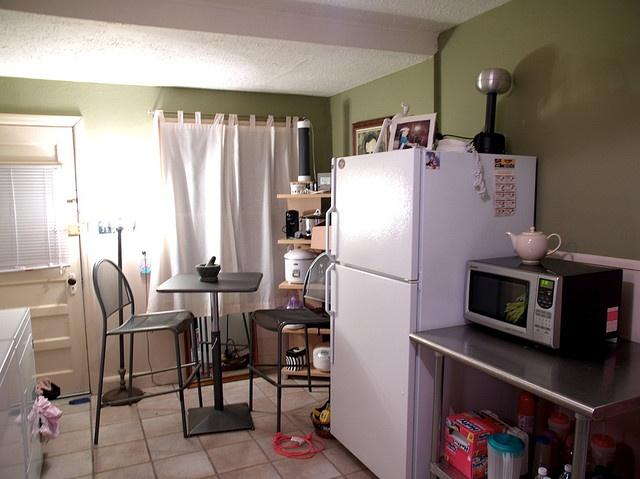Kursi: (91, 258, 202, 445)
